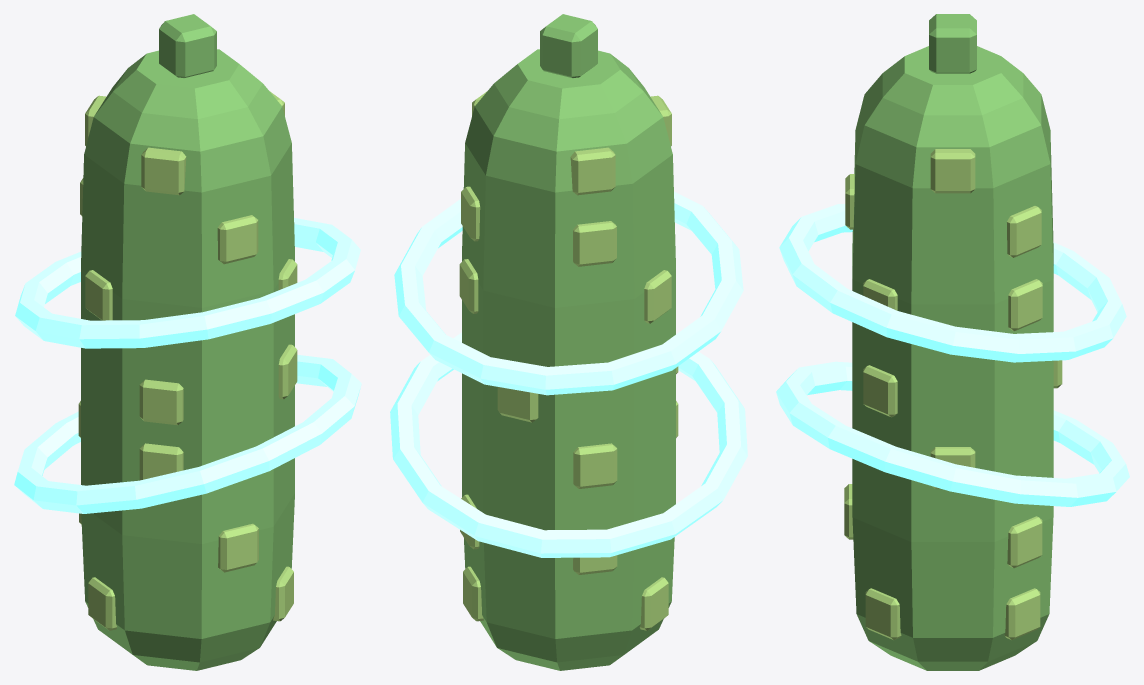
File: NeonElectroCucumber.fbx
3 renders of one model, left to right at view 1: azimuth 30°, elevation 25°; view 2: azimuth 150°, elevation 25°; view 3: azimuth 270°, elevation 25°, orthographic.
Visible parts, largest first — view 1: NeonElectroCucumber.Body, NeonElectroCucumber.Rings, NeonElectroCucumber.Studs; view 2: NeonElectroCucumber.Body, NeonElectroCucumber.Rings, NeonElectroCucumber.Studs; view 3: NeonElectroCucumber.Body, NeonElectroCucumber.Rings, NeonElectroCucumber.Studs.
Part boxes in pixels (bbox=[...]): NeonElectroCucumber.Body: bbox=[81, 14, 294, 670]; NeonElectroCucumber.Rings: bbox=[14, 218, 361, 513]; NeonElectroCucumber.Studs: bbox=[78, 91, 297, 630]; NeonElectroCucumber.Body: bbox=[462, 14, 675, 670]; NeonElectroCucumber.Rings: bbox=[390, 191, 747, 557]; NeonElectroCucumber.Studs: bbox=[459, 91, 678, 630]; NeonElectroCucumber.Body: bbox=[852, 14, 1053, 670]; NeonElectroCucumber.Rings: bbox=[776, 204, 1129, 506]; NeonElectroCucumber.Studs: bbox=[844, 149, 1062, 639].
Size of the model in its own units: 2.25 by 4.3 by 2.21.
